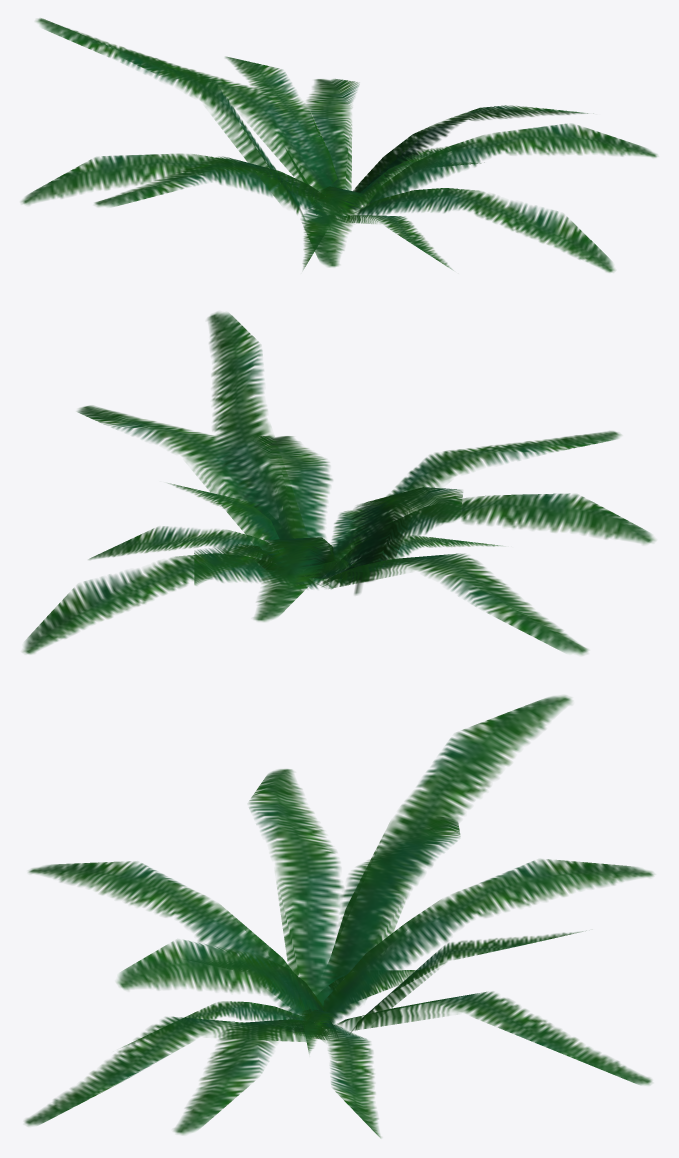
File: fern-tall.lod1.glb
The picture shows the model from 3 angles, top to bottom: view 1: azimuth 30°, elevation 25°; view 2: azimuth 150°, elevation 25°; view 3: azimuth 270°, elevation 25°; orthographic projection. The views are drawn at different scales.
Parts seen in each view (by area): view 1: SM_Fern_02_Ferns_0; view 2: SM_Fern_02_Ferns_0; view 3: SM_Fern_02_Ferns_0.
Boxes of the visible parts, <box> form: SM_Fern_02_Ferns_0: <box>21,18,657,272</box>; SM_Fern_02_Ferns_0: <box>23,312,654,654</box>; SM_Fern_02_Ferns_0: <box>24,695,653,1137</box>.
Size of the model in its own units: 3.07 by 0.9795 by 2.61.
Materials: 1 (1 with a texture image).
